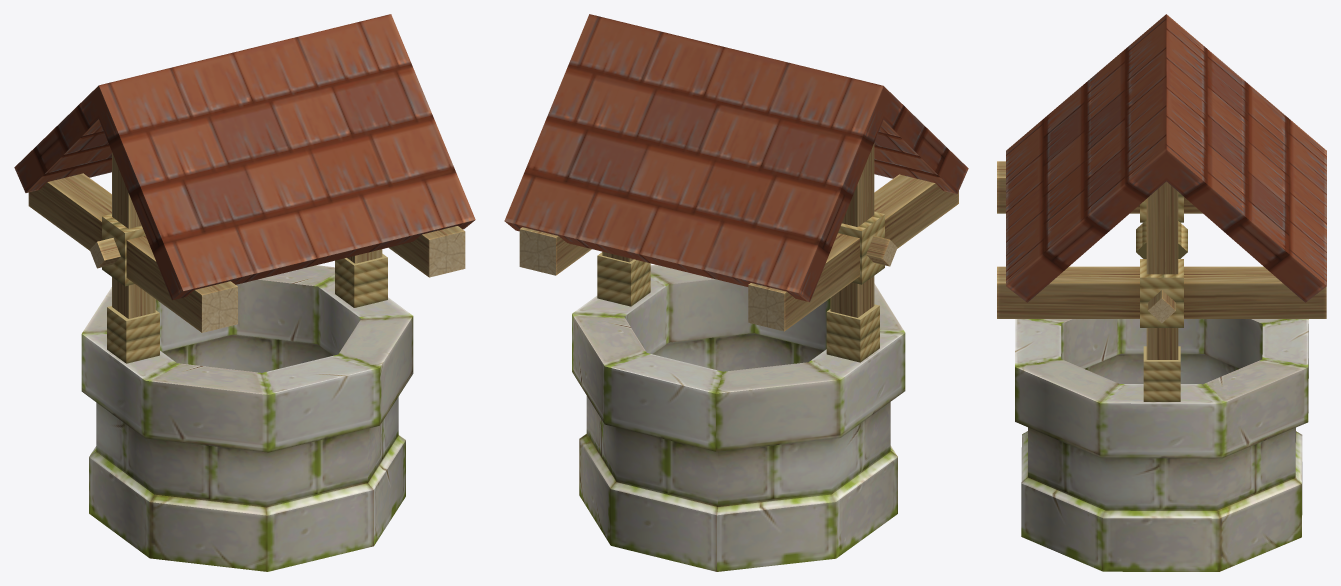
Rendered from Well.FBX.
The picture shows the model from 3 angles, left to right: view 1: azimuth 30°, elevation 25°; view 2: azimuth 150°, elevation 25°; view 3: azimuth 270°, elevation 25°; orthographic projection. The views are drawn at different scales.
Parts seen in each view (by area): view 1: Well; view 2: Well; view 3: Well.
Boxes of the visible parts, x1,y1,x2,y2 form: Well: (14, 14, 475, 571); Well: (504, 14, 968, 571); Well: (997, 14, 1326, 571).
Size of the model in its own units: 162 by 232 by 161.
